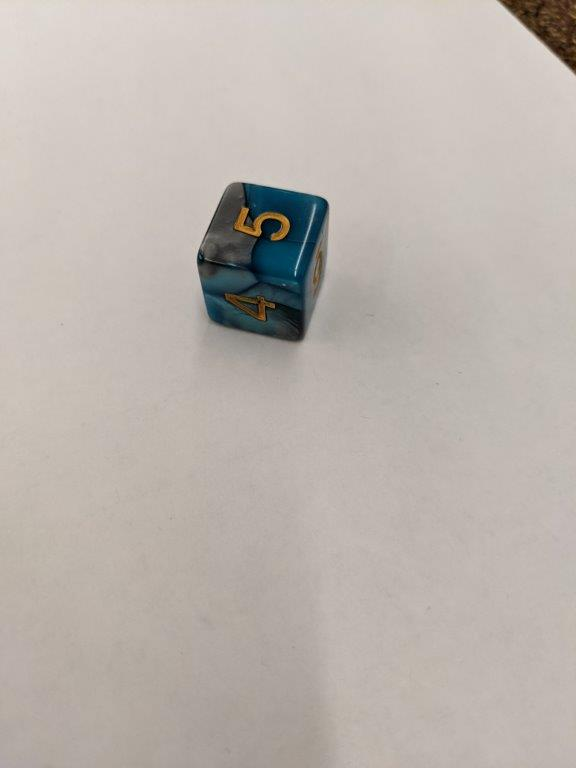d6-5: (196, 182, 332, 344)
